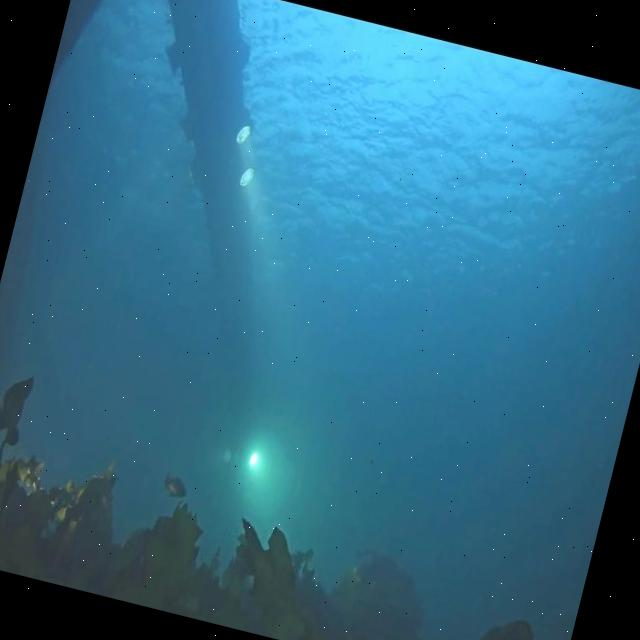fish: (160, 470, 191, 500)
